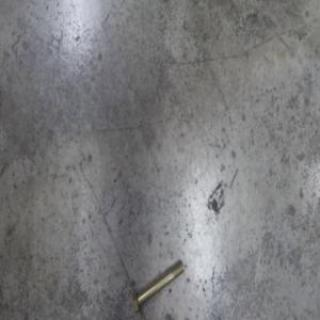Bolttrack_idkeyframe: (131, 256, 185, 316)
